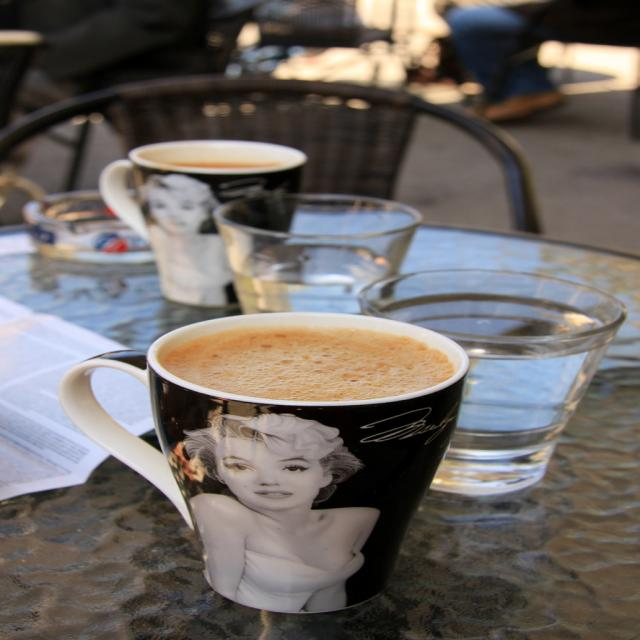Coffee: (59, 307, 475, 624), (171, 324, 459, 401), (172, 158, 285, 166)
Tea: (27, 298, 485, 606), (154, 329, 454, 400), (158, 162, 274, 170)
